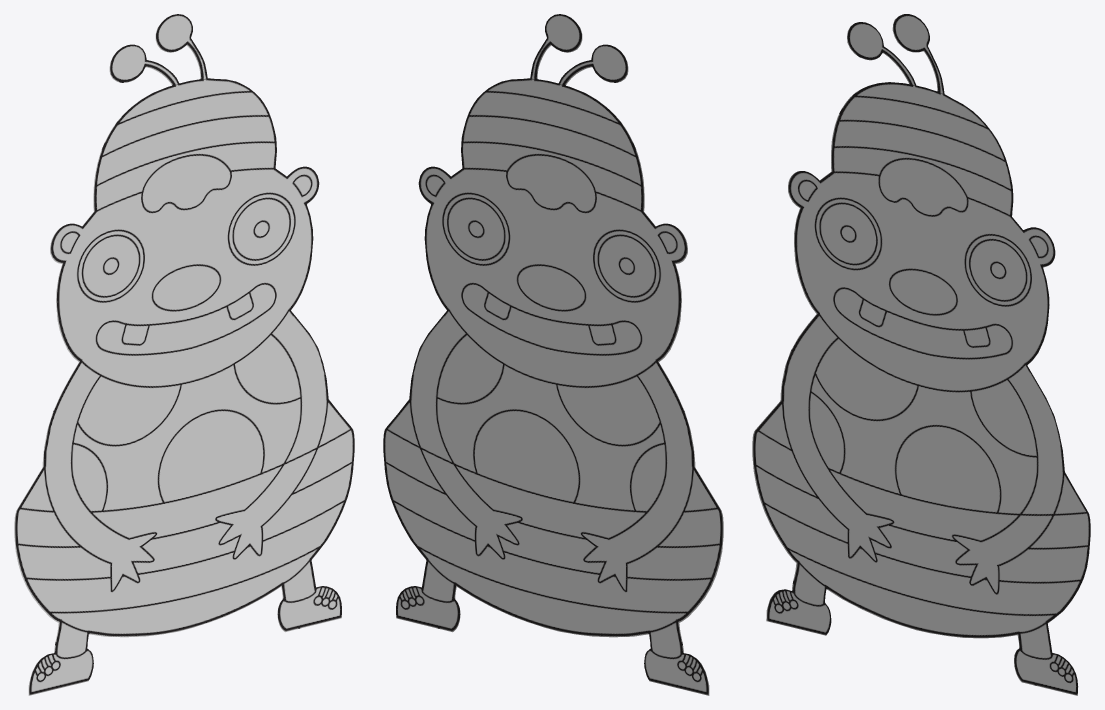
Rendered from 39_bagle_fix.fbx.
3 renders of one model, left to right at view 1: azimuth 30°, elevation 25°; view 2: azimuth 150°, elevation 25°; view 3: azimuth 330°, elevation 25°, orthographic.
Visible parts, largest first — view 1: _Bagle; view 2: _Bagle; view 3: _Bagle.
Part boxes in pixels (x1,y1,x2,y2): _Bagle: (14,14,354,695); _Bagle: (383,14,723,695); _Bagle: (752,14,1090,695).
Size of the model in its own units: 8.21 by 14.87 by 8.39e-06.
Materials: 1 (1 with a texture image).
